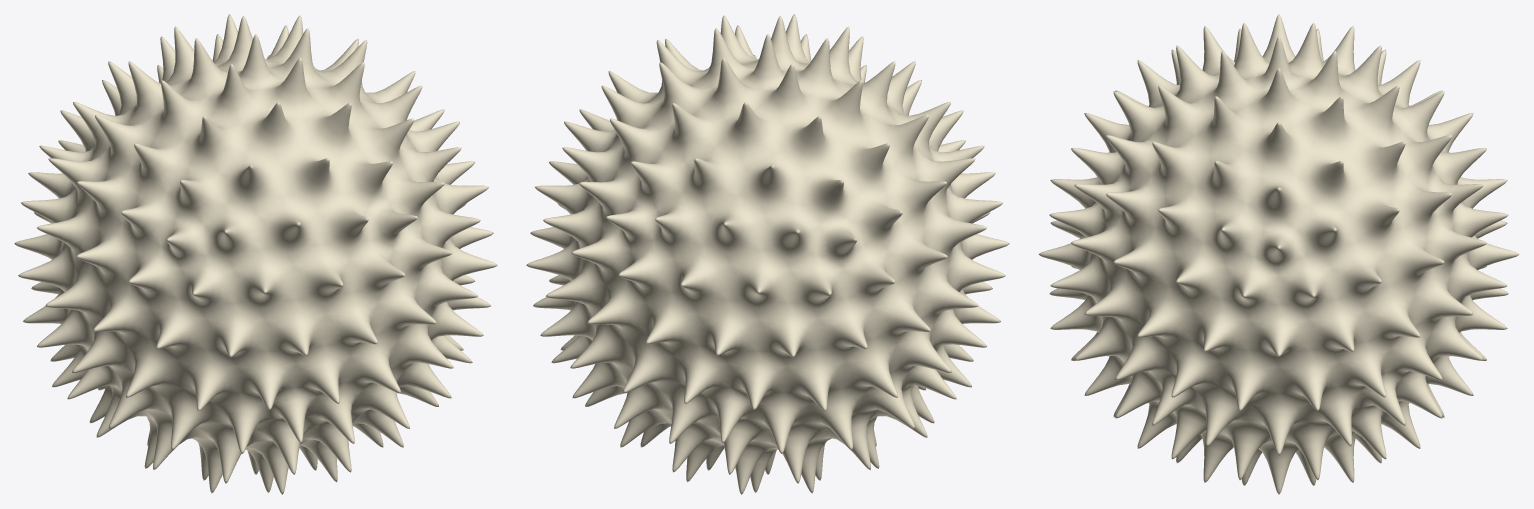
3 views of the same model, side by side, from view 1: azimuth 30°, elevation 25°; view 2: azimuth 150°, elevation 25°; view 3: azimuth 270°, elevation 25° (orthographic).
Visible parts, largest first — view 1: Icosphere; view 2: Icosphere; view 3: Icosphere.
Boxes of the visible parts, x1,y1,x2,y2 form: Icosphere: [14, 14, 497, 494]; Icosphere: [526, 14, 1009, 494]; Icosphere: [1038, 14, 1519, 494].
Bounding box in the file's own units: 9.16 × 9.17 × 9.16.
